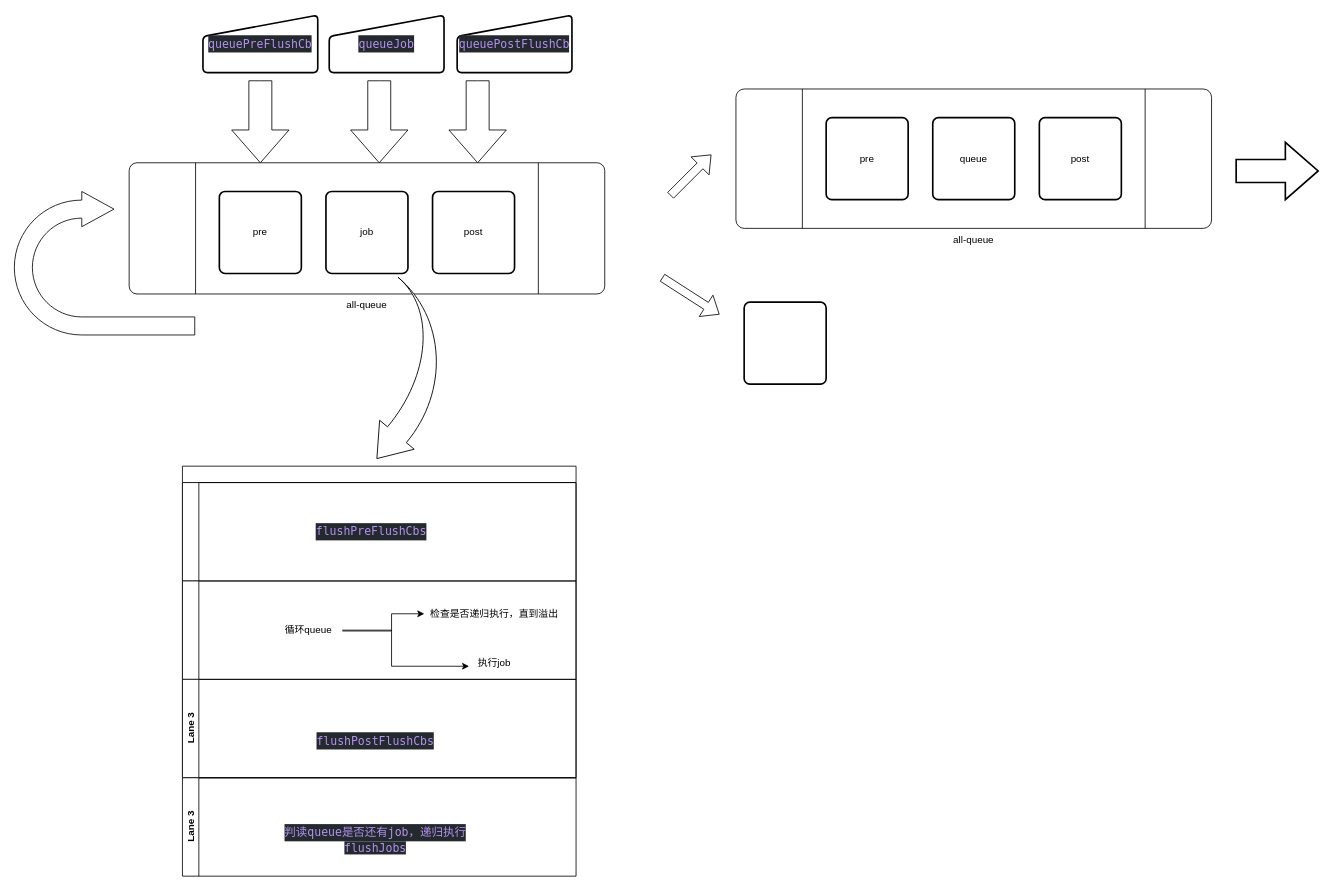
Image size: 1333x891. Some labels were removed from this diagram. Here are the shapes that lost their labels. From the top down, the box of each, then its label:
(14, 191, 195, 335): 循环
(743, 301, 827, 385): next-tick
(182, 482, 576, 581): Lane 1
(182, 465, 576, 778): flushJobs
(182, 580, 576, 679): Lane 2
